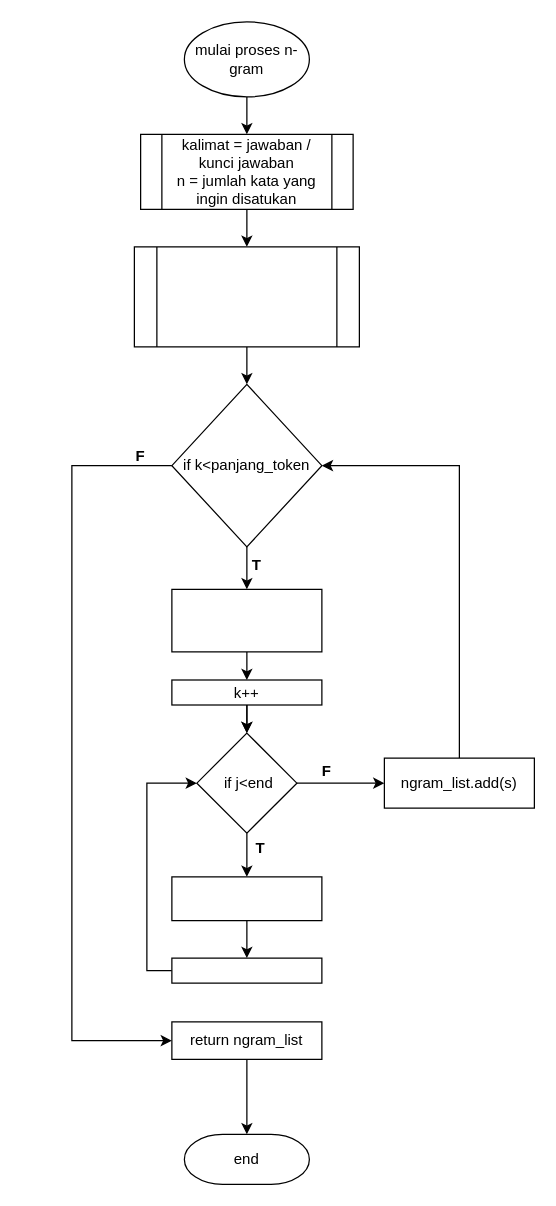
Image size: 556x1206. Some labels were removed from this diagram. The box of each missing label's shape, as (x1, y1, x2, y2) in pixels:
j = start s = s+"_"tokens[j]: (171, 876, 322, 921)
j++: (171, 957, 322, 983)
s = "" start = k end = k+n: (171, 588, 322, 652)
tokens= kalimat.split(" ") k = 0 panjang_token = len(tokens): (133, 246, 359, 347)
